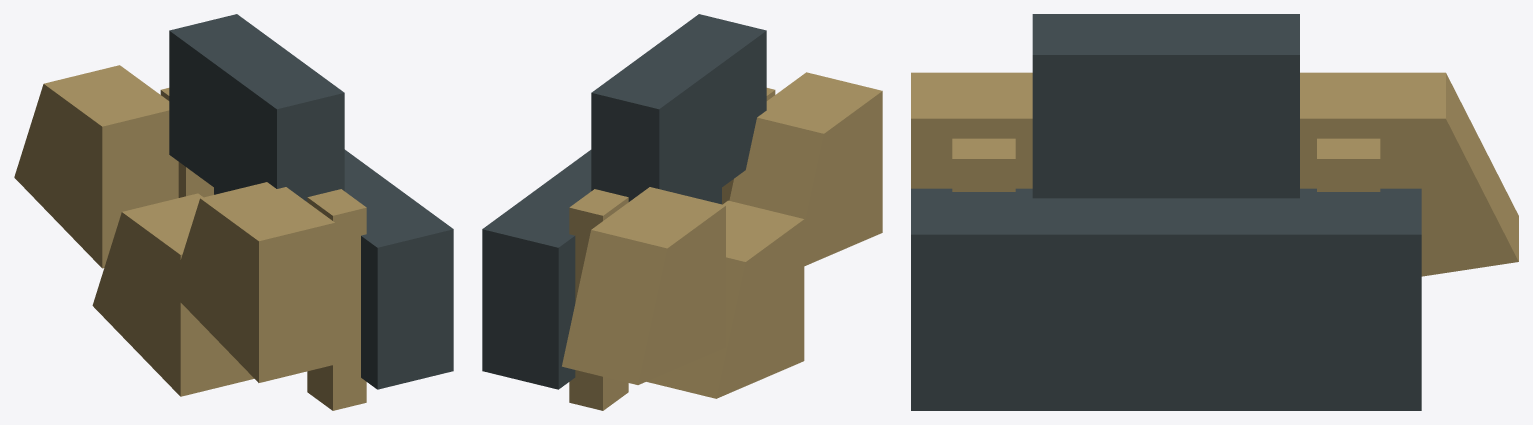
The model's file is Arsenal_ArmorWedgeRail.fbx.
3 views of the same model, side by side, from view 1: azimuth 30°, elevation 25°; view 2: azimuth 150°, elevation 25°; view 3: azimuth 270°, elevation 25° (orthographic). The views are drawn at different scales.
Parts seen in each view (by area): view 1: Arsenal_ArmorWedgeRail; view 2: Arsenal_ArmorWedgeRail; view 3: Arsenal_ArmorWedgeRail.
Boxes of the visible parts, x1,y1,x2,y2 form: Arsenal_ArmorWedgeRail: (14,14,453,410); Arsenal_ArmorWedgeRail: (482,14,882,410); Arsenal_ArmorWedgeRail: (911,14,1518,410).
Bounding box in the file's own units: 0.115 × 0.165 × 0.25.
